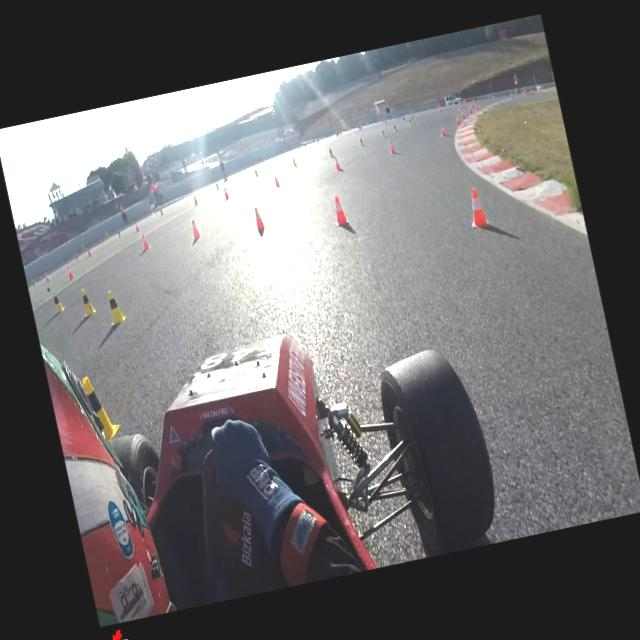orange_cone: (464, 186, 489, 229), (330, 193, 350, 226), (252, 204, 266, 232), (188, 218, 202, 240), (140, 232, 150, 250), (272, 172, 280, 188), (388, 138, 396, 154), (66, 264, 74, 280), (333, 156, 341, 170), (438, 122, 446, 136), (222, 187, 230, 200), (192, 193, 198, 206), (459, 108, 465, 120), (454, 114, 460, 126), (134, 221, 140, 232), (44, 272, 50, 282), (87, 248, 92, 257), (468, 105, 472, 114), (438, 104, 442, 112), (474, 104, 478, 110), (458, 105, 461, 109), (412, 111, 414, 116), (471, 105, 474, 108)
yellow_cone: (80, 372, 123, 444), (104, 287, 128, 326), (78, 286, 98, 318), (50, 288, 64, 312), (290, 156, 298, 168), (214, 180, 220, 190), (392, 123, 398, 133), (31, 278, 37, 288), (358, 136, 364, 146), (380, 128, 386, 138), (116, 228, 122, 238), (74, 252, 80, 262), (328, 146, 333, 157), (254, 167, 259, 177), (408, 118, 413, 126), (160, 207, 164, 215), (402, 116, 406, 123), (384, 119, 388, 125), (411, 116, 414, 123)
